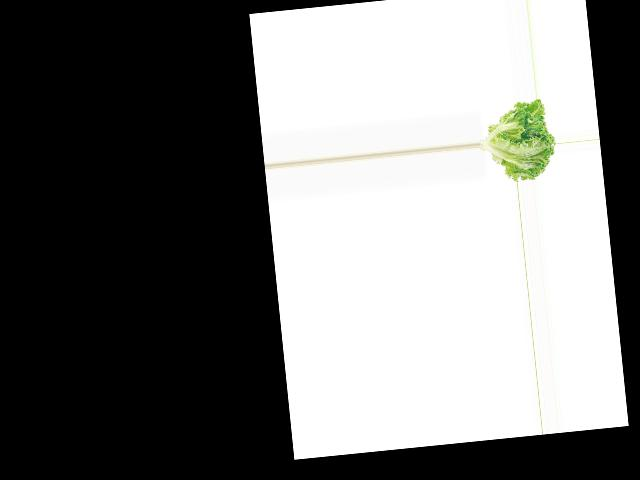lettuce: (475, 98, 558, 185)
